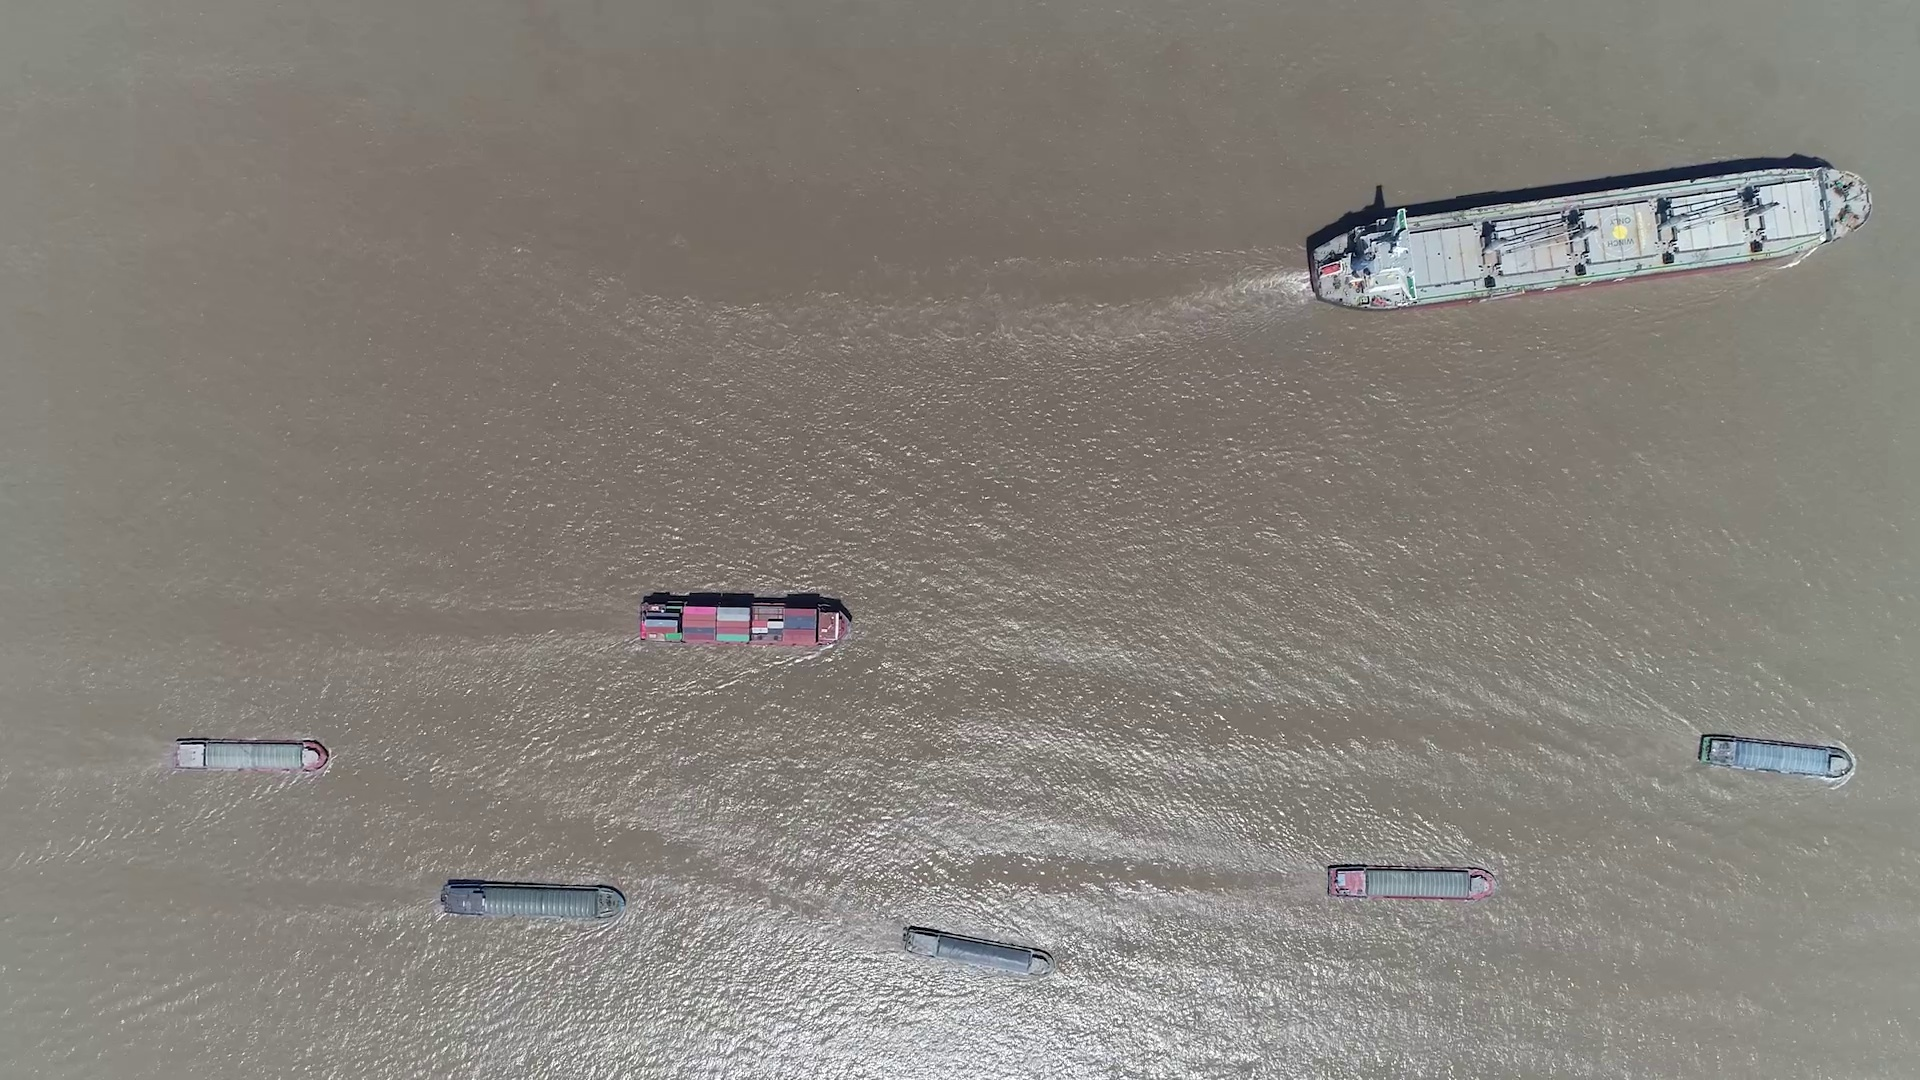ship: (1309, 165, 1873, 309), (636, 597, 849, 647), (442, 880, 625, 919), (902, 927, 1050, 976), (1698, 735, 1854, 781), (1328, 865, 1495, 902), (171, 737, 327, 771)
